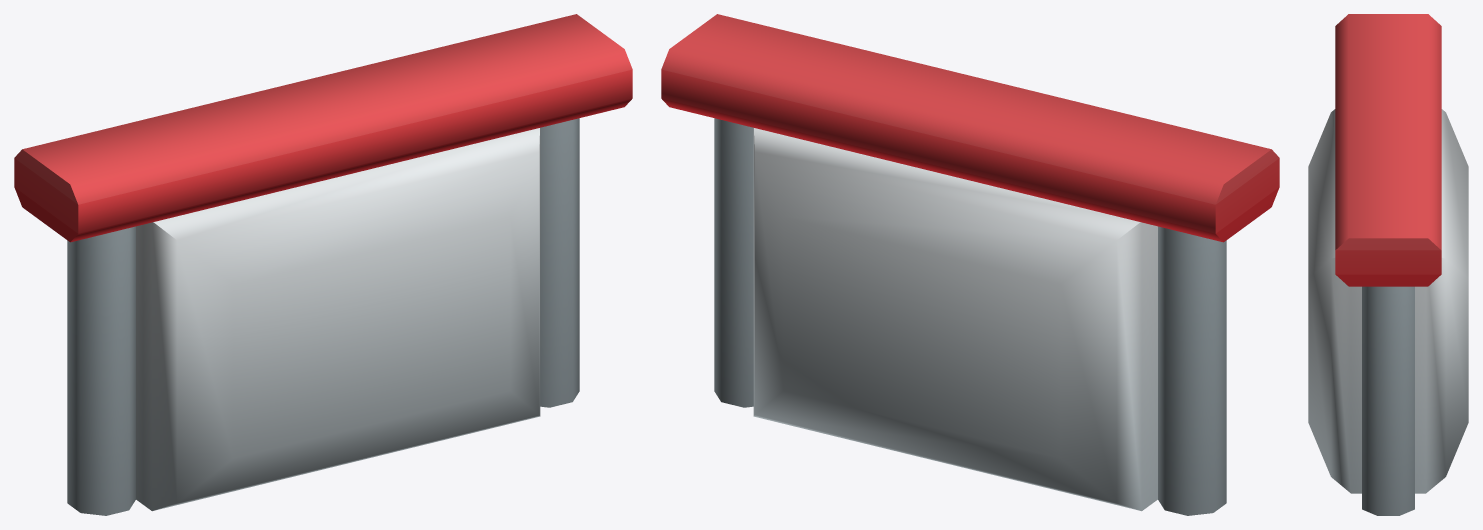
The model's file is railing_straight_padded_red.glb.
The picture shows the model from 3 angles, left to right: view 1: azimuth 30°, elevation 25°; view 2: azimuth 150°, elevation 25°; view 3: azimuth 270°, elevation 25°; orthographic projection. The views are drawn at different scales.
Parts seen in each view (by area): view 1: railing_straight_padded_red; view 2: railing_straight_padded_red; view 3: railing_straight_padded_red.
Boxes of the visible parts, bbox=[...] form: railing_straight_padded_red: bbox=[14, 14, 632, 515]; railing_straight_padded_red: bbox=[661, 14, 1279, 515]; railing_straight_padded_red: bbox=[1308, 14, 1468, 515].
Size of the model in its own units: 2 by 1.2 by 0.6028.
1 material, 1 textured.
